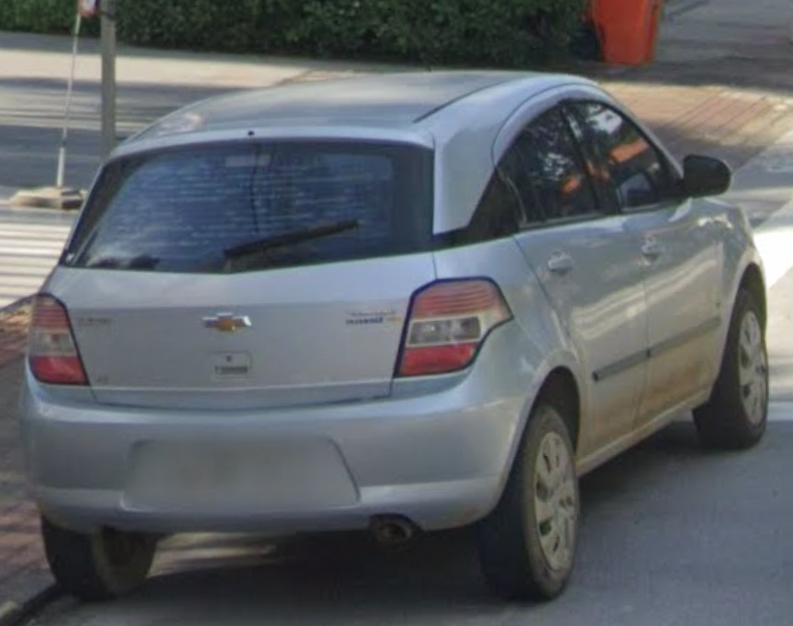car: (22, 72, 772, 603)
